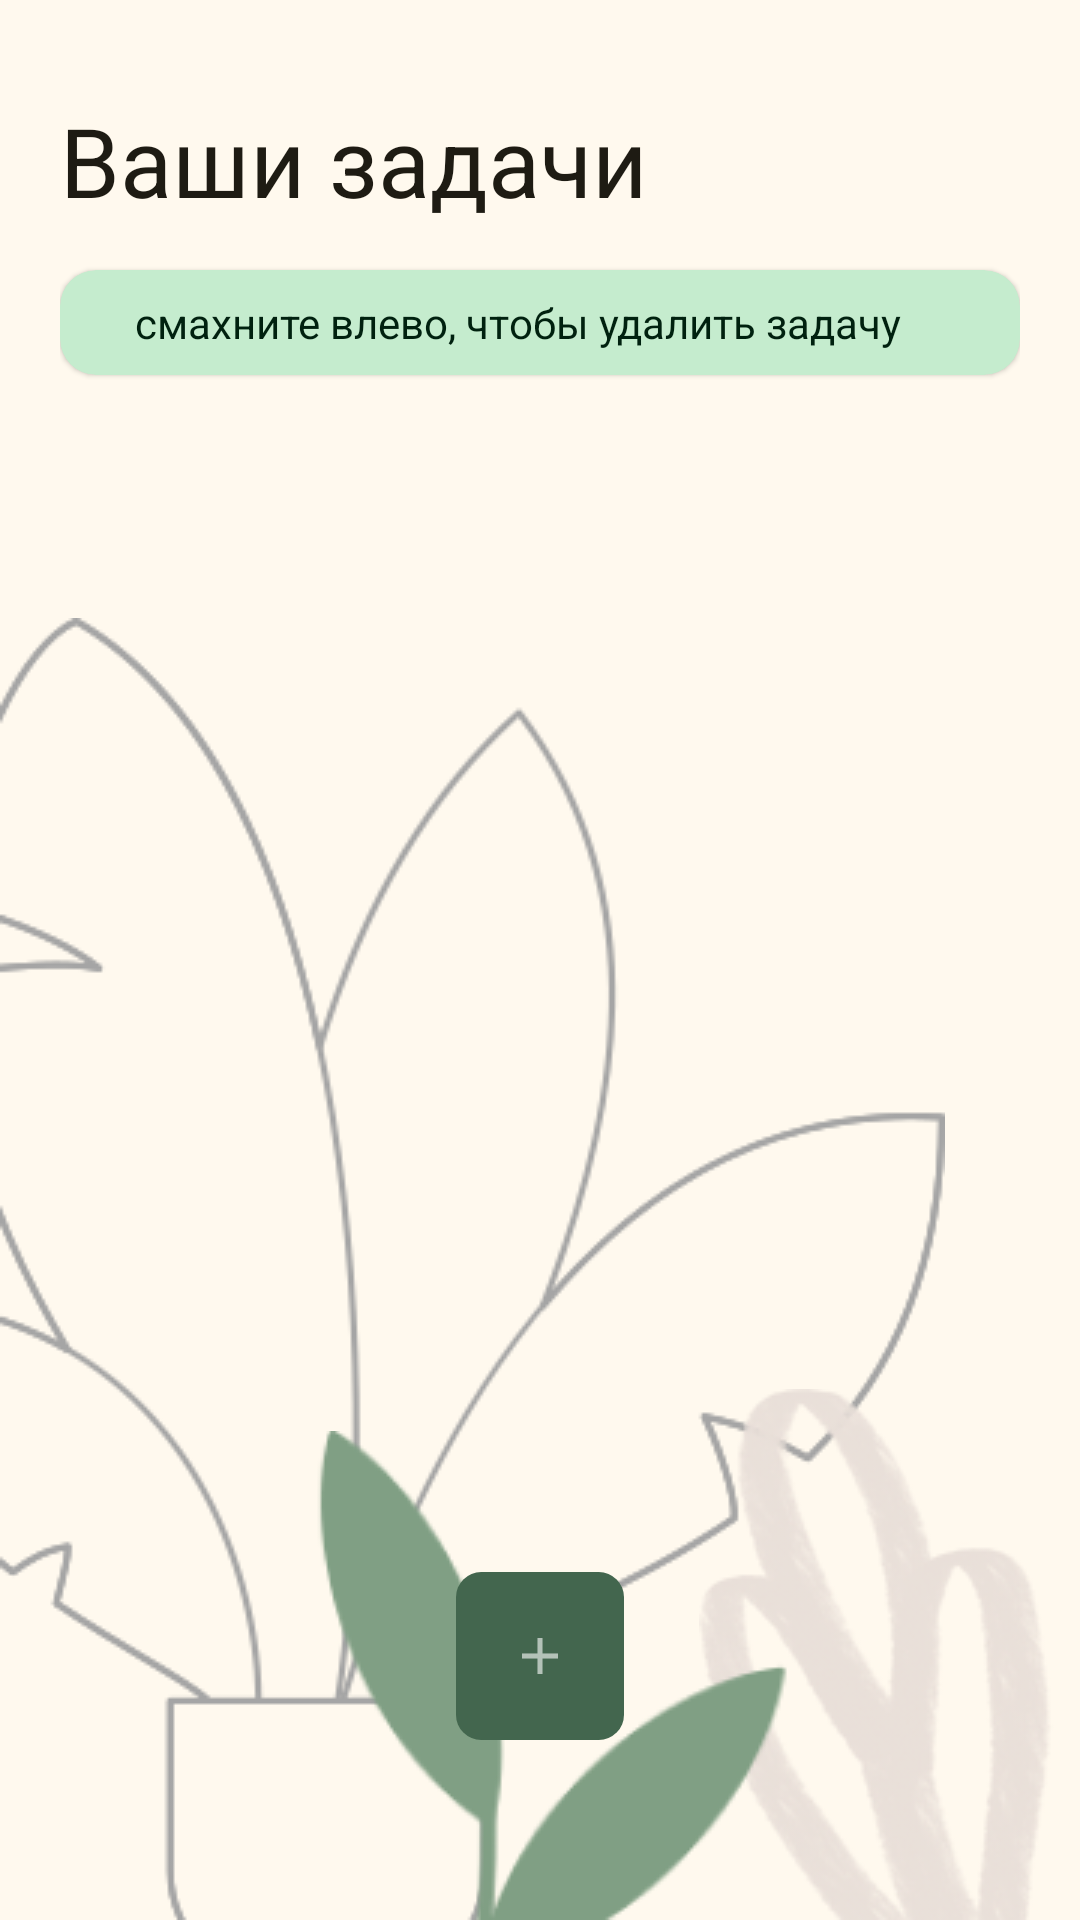

Icon click points for this 1080px×1920px phone screenshot, format (x=x, y=y):
Добавить задачу: (x=540, y=1656)
